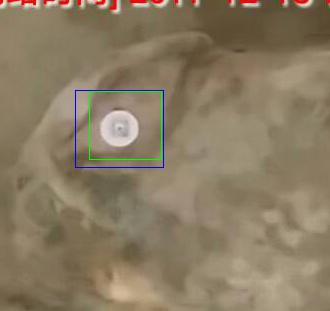text: (89, 91, 161, 159)
